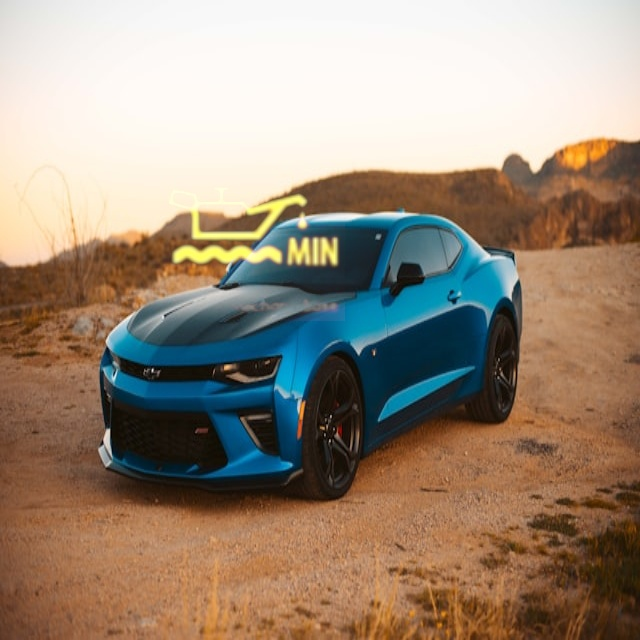symbol: (155, 131, 345, 321)
